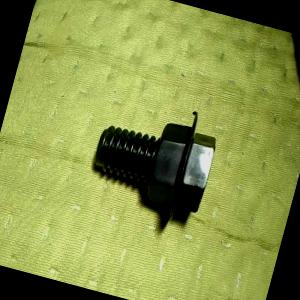parafuso: (82, 87, 224, 230)
